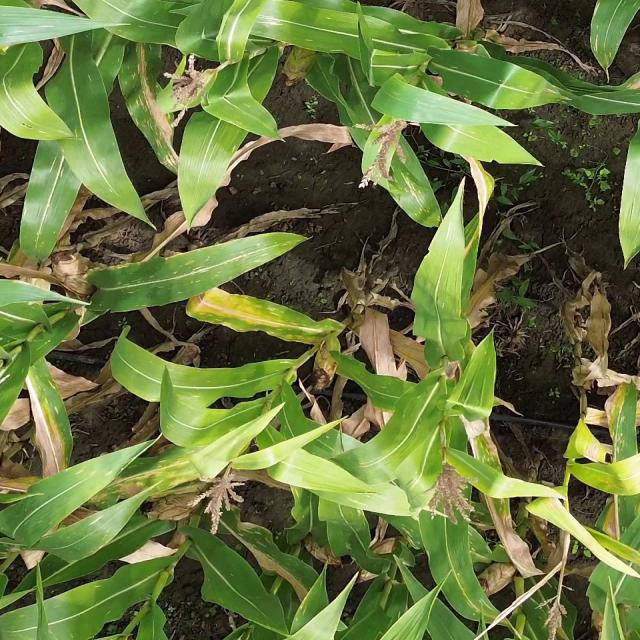gray-leaf-spot: (103, 46, 195, 171), (243, 517, 335, 601), (459, 428, 533, 528), (225, 406, 360, 460), (591, 376, 640, 481)
northern-leaf-blight: (22, 348, 93, 489), (95, 441, 231, 509)
southern-leaf-blight: (139, 237, 333, 348), (469, 73, 582, 126), (382, 155, 456, 232)
